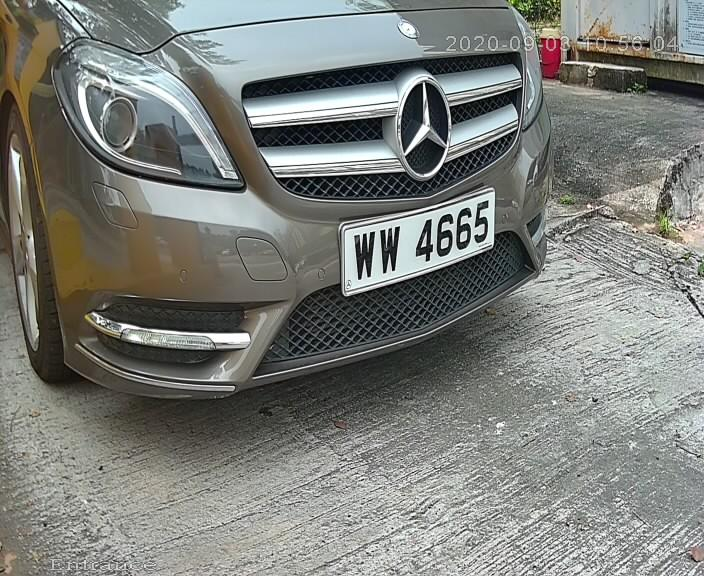License Plate: (337, 186, 500, 294)
